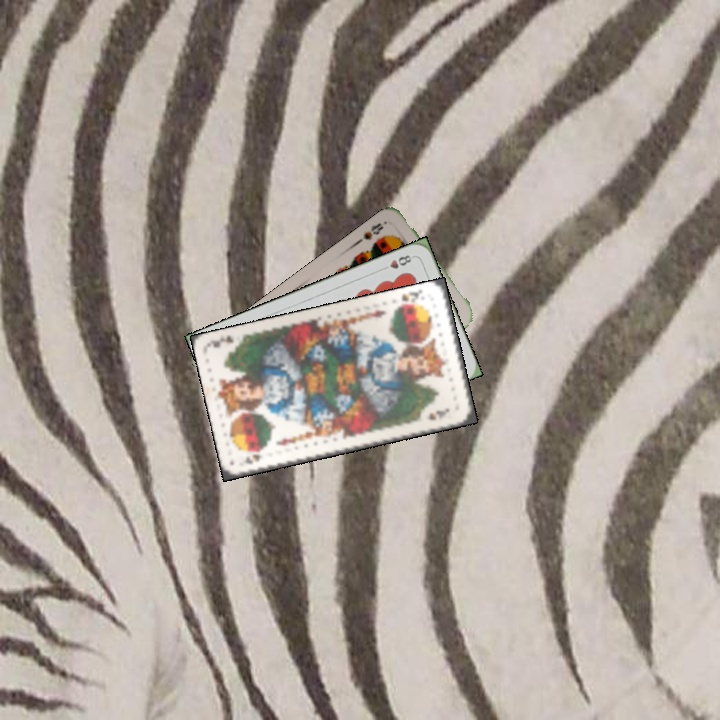H8: (378, 251, 416, 273)
S8: (354, 219, 386, 245)
SK: (393, 286, 425, 312), (240, 449, 265, 466)
